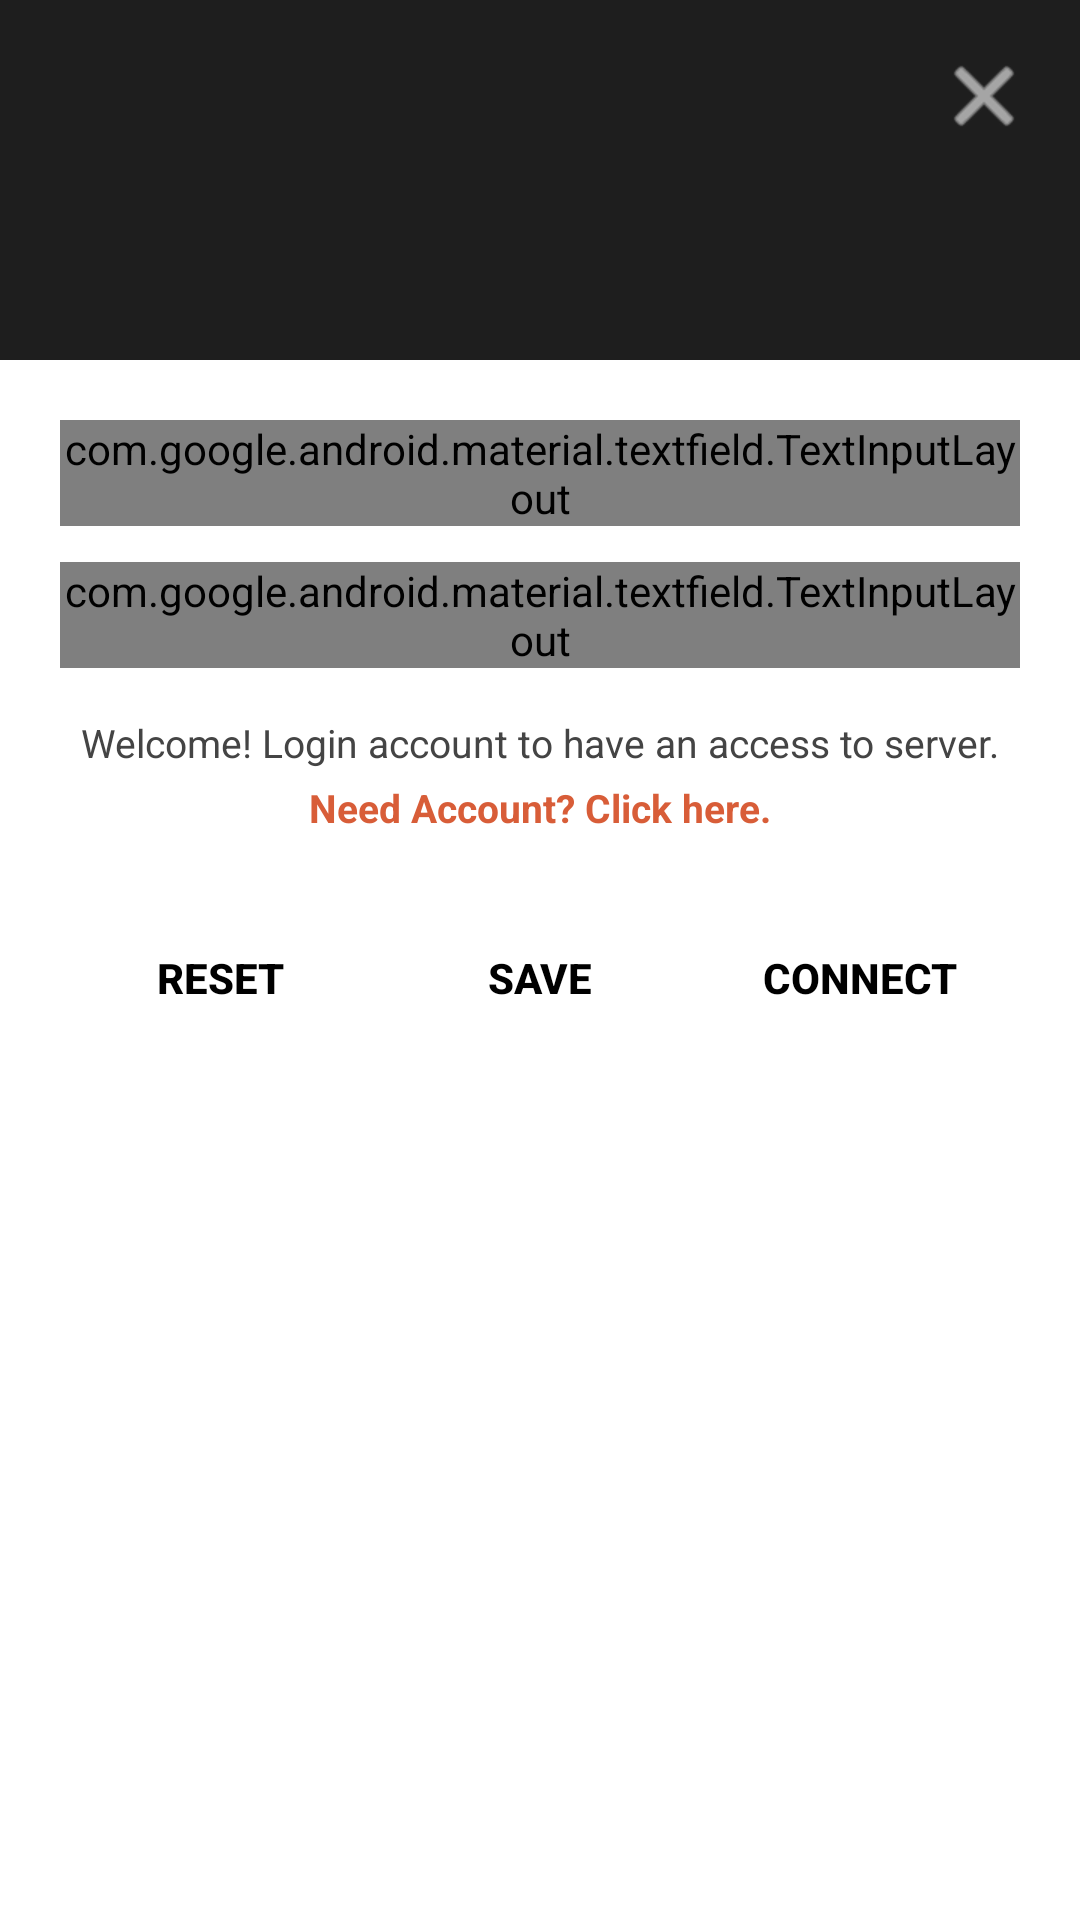

Locate icon controls on the screen. Image size 1080w x 1920h, boxes as bbox=(x1, y1, x2, y2).
close clear cancel: bbox=(954, 66, 1014, 126)
